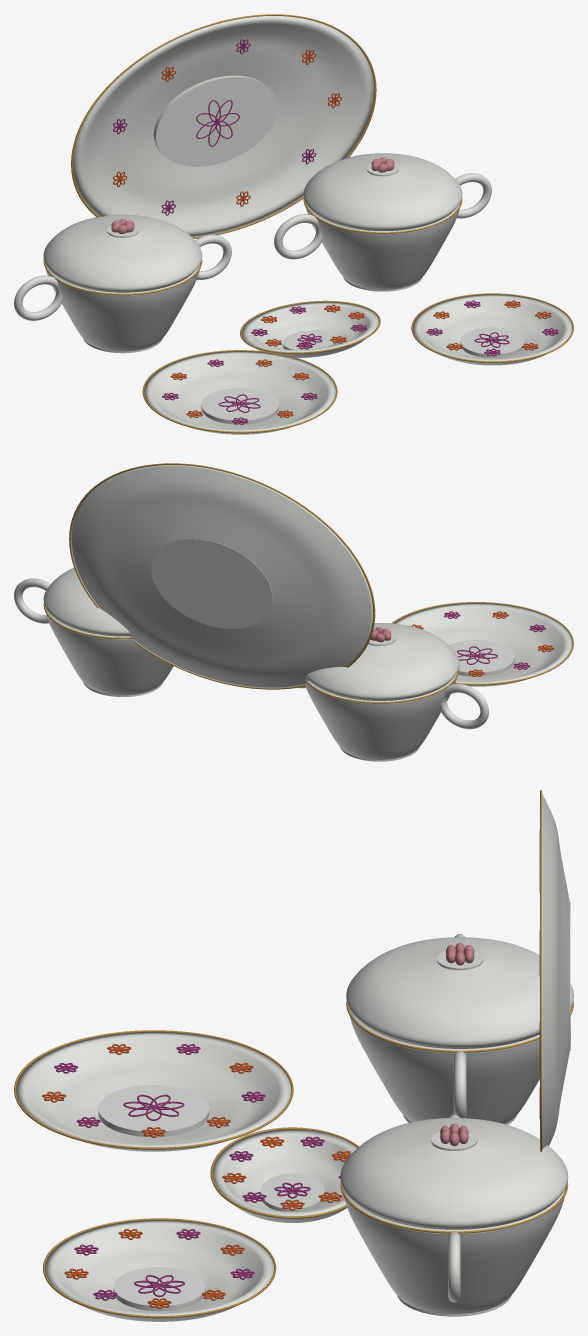
File: bcm-978.glb
The picture shows the model from 3 angles, top to bottom: view 1: azimuth 30°, elevation 25°; view 2: azimuth 150°, elevation 25°; view 3: azimuth 270°, elevation 25°; orthographic projection. The views are drawn at different scales.
Parts seen in each view (by area): view 1: 978 round serving plate, 978 round serving plate gilt rim, 978 floral painted petal.007, 978 floral painted petal, 978 rose lid finial; view 2: 978 round serving plate, 978 round serving plate gilt rim, 978 floral painted petal.007; view 3: 978 round serving plate, 978 round serving plate gilt rim, 978 floral painted petal.007, 978 floral painted petal, 978 rose lid finial.
Part boxes in pixels (x1,y1,x2,y2): 978 round serving plate: (14, 16, 572, 434); 978 round serving plate gilt rim: (43, 14, 573, 433); 978 floral painted petal.007: (113, 39, 558, 424); 978 floral painted petal: (113, 49, 551, 417); 978 rose lid finial: (111, 157, 394, 233); 978 round serving plate: (14, 465, 572, 761); 978 round serving plate gilt rim: (43, 463, 573, 703); 978 floral painted petal.007: (444, 611, 545, 669); 978 round serving plate: (16, 794, 573, 1321); 978 round serving plate gilt rim: (14, 790, 573, 1318); 978 floral painted petal.007: (54, 854, 539, 1300); 978 floral painted petal: (42, 830, 539, 1308); 978 rose lid finial: (440, 943, 474, 1146).
Bounding box in the file's own units: 1.36 × 0.722 × 0.969.
